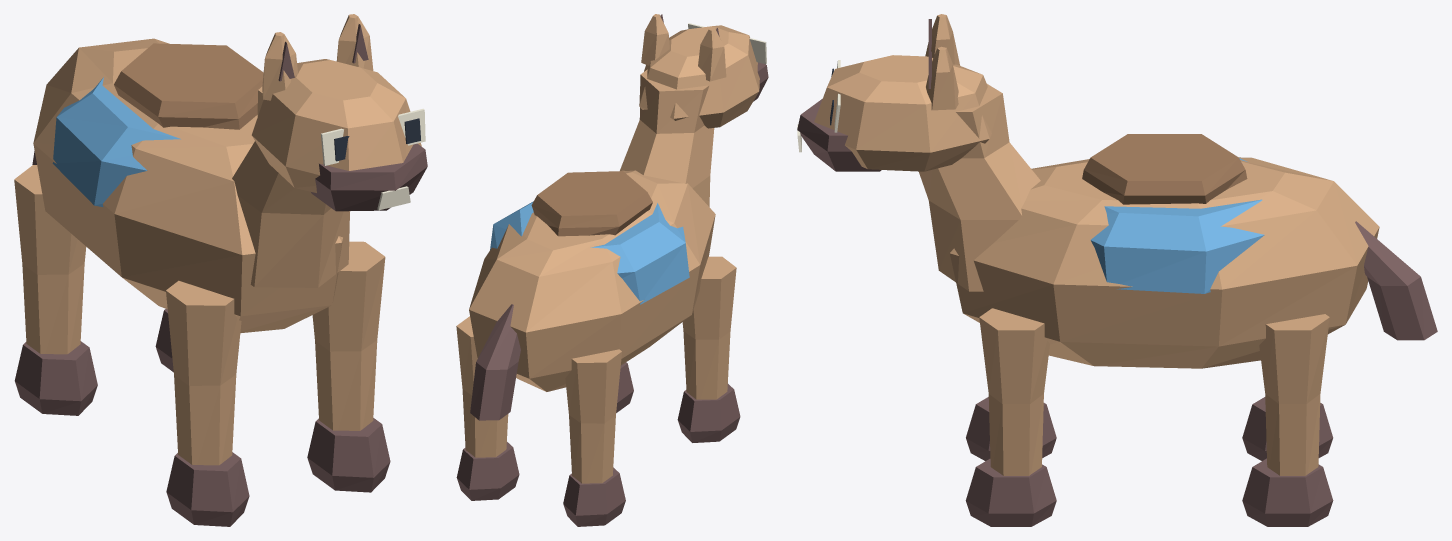
Rendered from pony.glb.
3 views of the same model, side by side, from view 1: azimuth 30°, elevation 25°; view 2: azimuth 150°, elevation 25°; view 3: azimuth 270°, elevation 25° (orthographic). The views are drawn at different scales.
Visible parts, largest first — view 1: body, legFL, legFR, legBL, legBR; view 2: body, legBL, legFL, legBR, legFR; view 3: body, legFR, legBR, legFL, legBL.
Boxes of the visible parts, left/top/right/bottom form: body: left=32, top=14, right=427, bottom=333; legFL: left=166, top=280, right=249, bottom=526; legFR: left=307, top=241, right=390, bottom=492; legBL: left=14, top=165, right=97, bottom=415; legBR: left=155, top=309, right=173, bottom=371; body: left=469, top=14, right=768, bottom=420; legBL: left=563, top=349, right=625, bottom=526; legFL: left=677, top=256, right=740, bottom=442; legBR: left=456, top=316, right=519, bottom=500; legFR: left=616, top=362, right=633, bottom=412; body: left=797, top=14, right=1437, bottom=368; legFR: left=965, top=308, right=1056, bottom=526; legBR: left=1242, top=314, right=1333, bottom=526; legFL: left=966, top=397, right=1056, bottom=460; legBL: left=1242, top=397, right=1333, bottom=460.
Bounding box in the file's own units: 0.7148 × 1.48 × 1.9.
